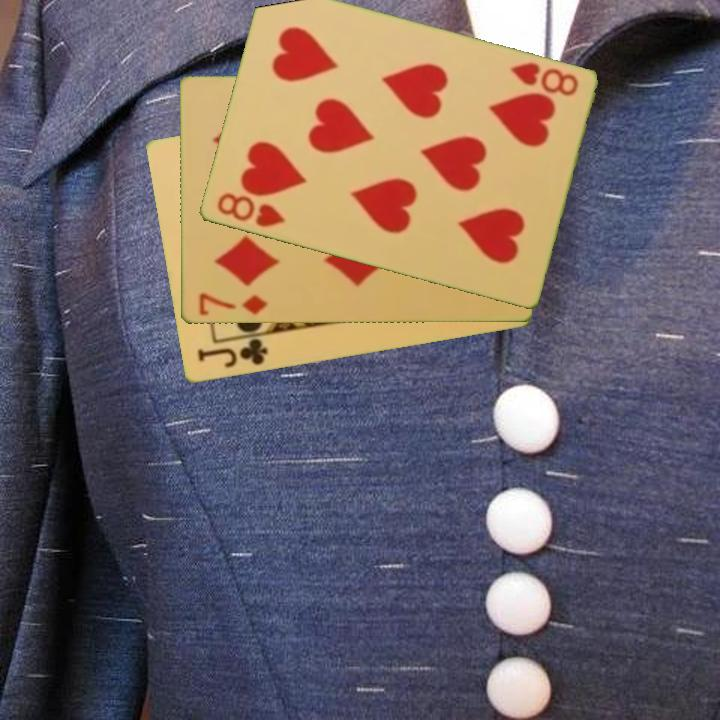7d: (195, 290, 270, 319)
8h: (213, 190, 288, 231), (506, 59, 581, 100)
Jc: (193, 335, 270, 372)
